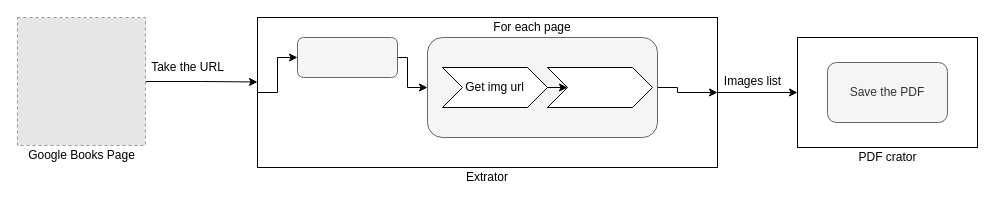
Image size: 995x205. Some labels were removed from this diagram. Grey dashed boxes stand in for pictures. The shapes that lost their labels are listed below. From the top down, each one's centre as x and y in pixels, then its label:
At (x=347, y=57): "Get The Book ID".
At (x=599, y=87): "save it".
